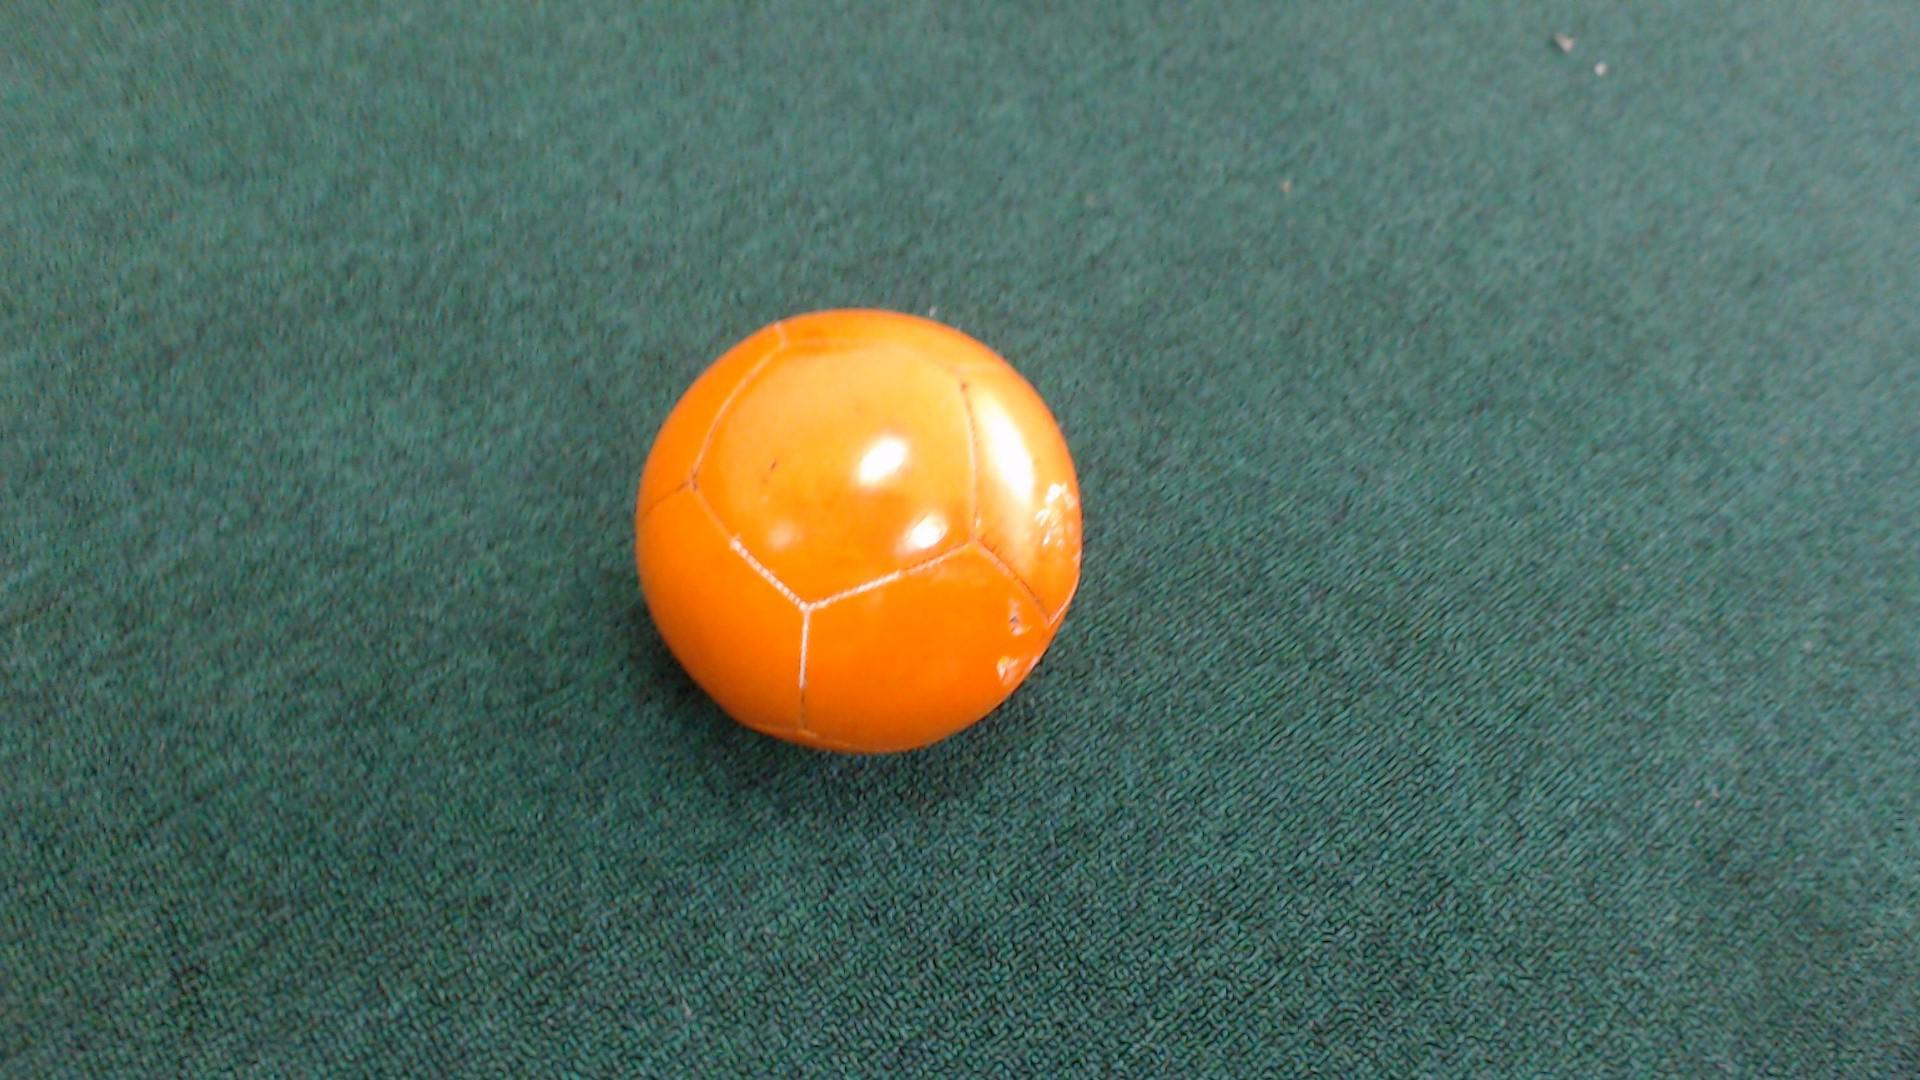bola: (601, 299, 1124, 760)
